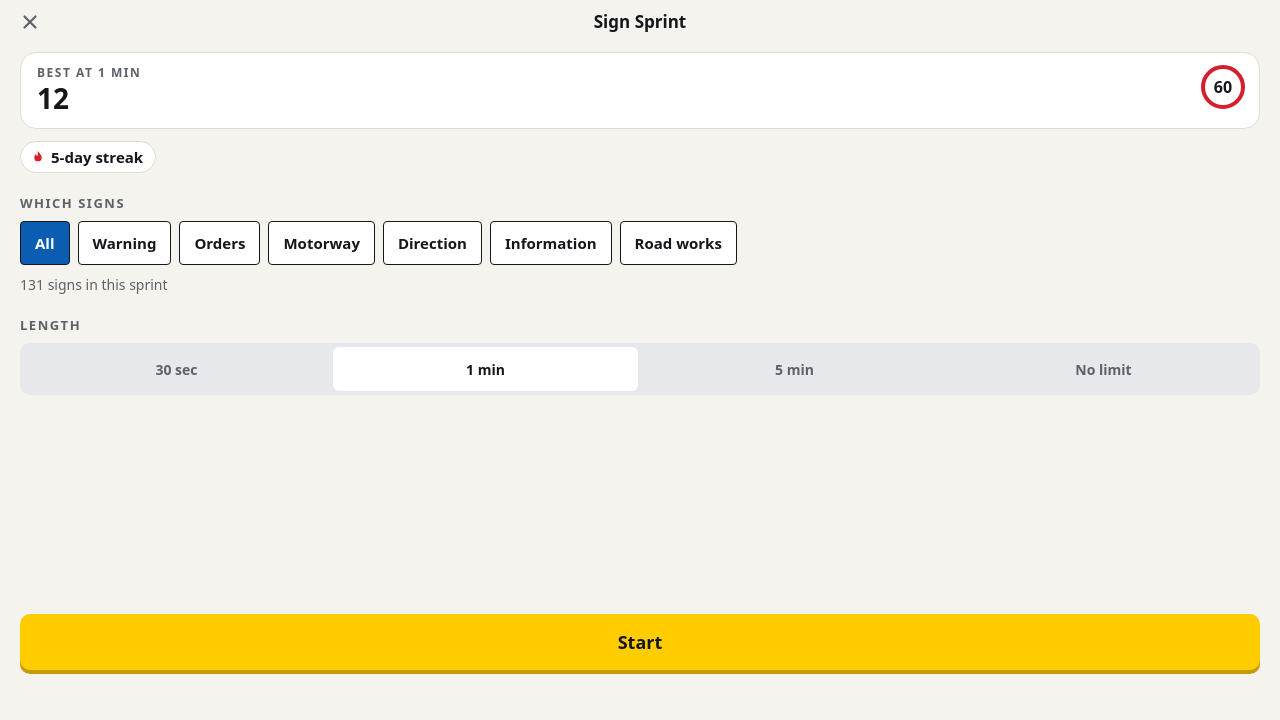
Test case: Sign Sprint start page › the best follows the chosen length
Expected: the text "No limit: play until you stop." is not shown
Click the tab "5 min" at (794, 369), box [642,347,947,391]
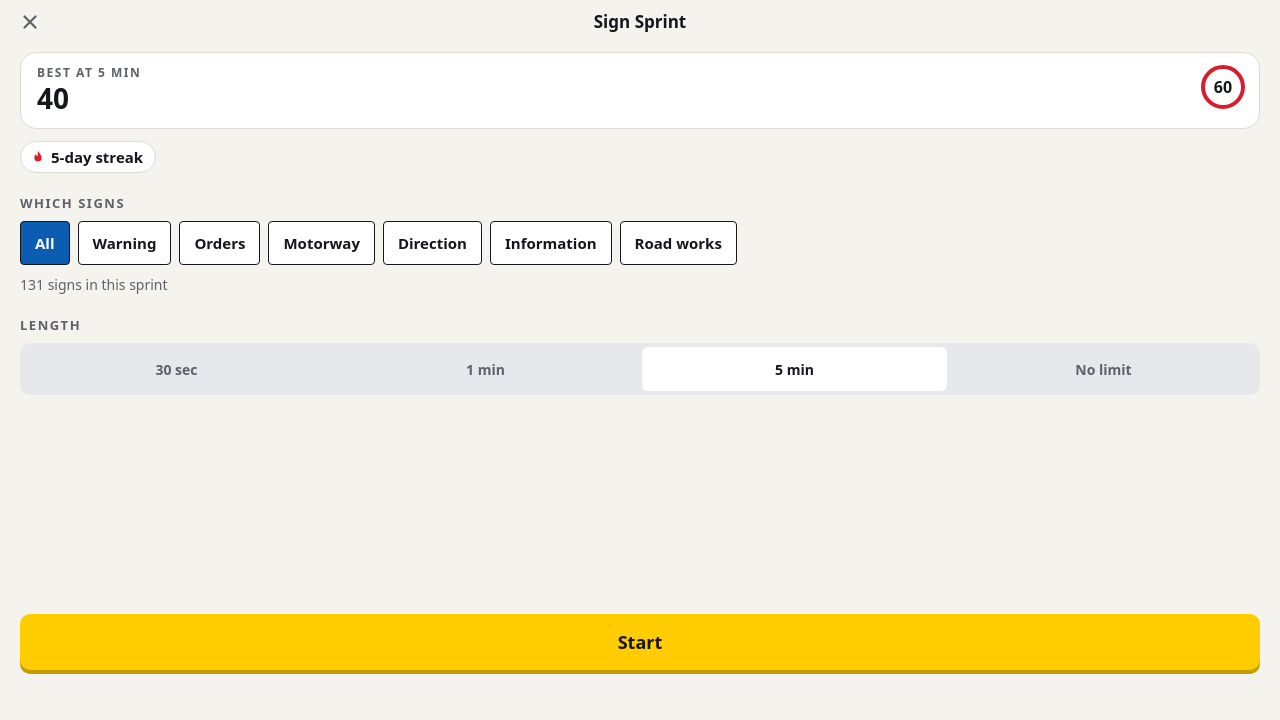
Expected: the text with class "sprint-start__kicker" reads "Best at 5 min", [37,64,141,81]
Click the tab "No limit" at (1104, 369), box [951,347,1256,391]
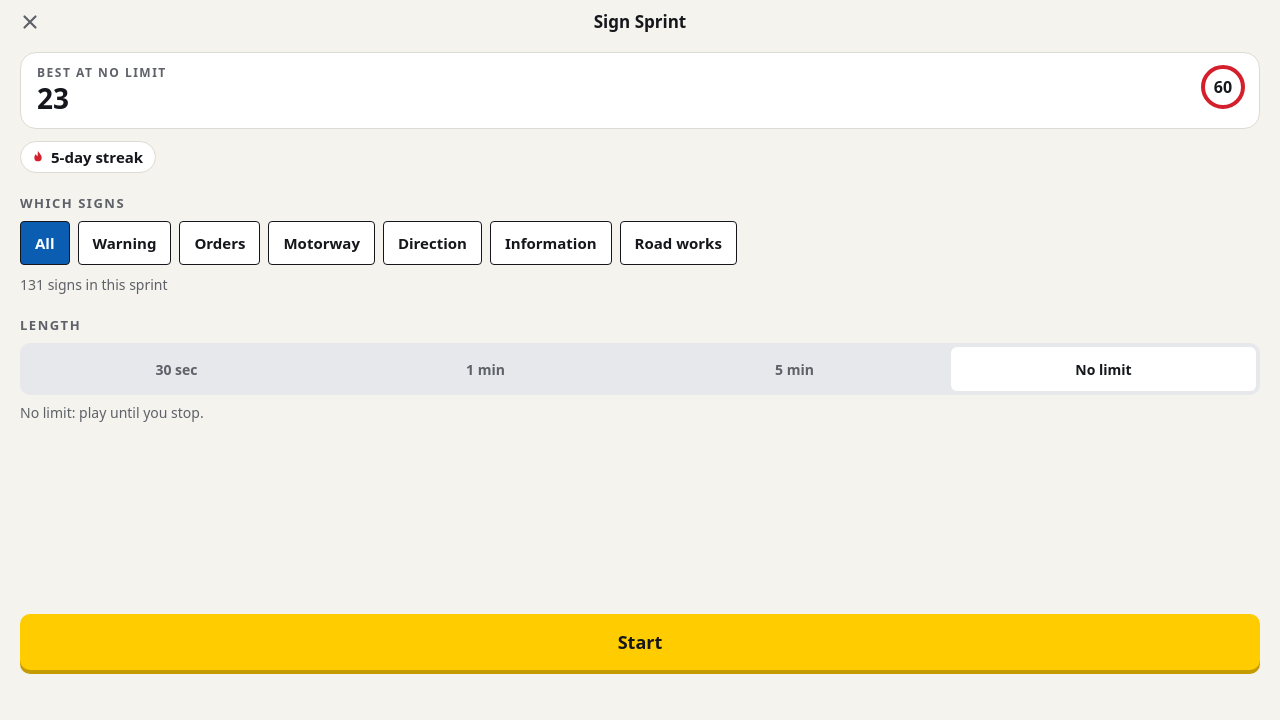
Expected: the text with class "sprint-start__kicker" reads "Best at No limit", [37,64,167,81]
Expected: the text "No limit: play until you stop." is shown, [20,403,204,422]
